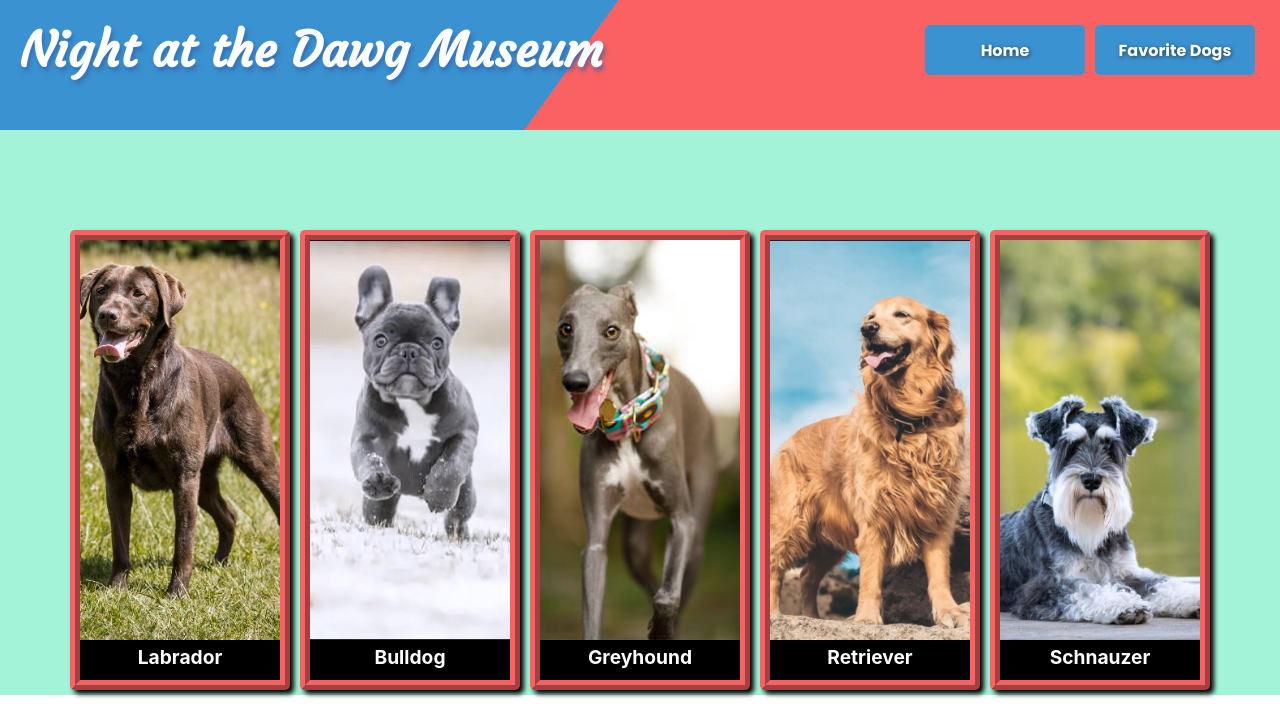
Test: Error page › Should show an error message when a dog breed can/t be fetched
The width and height of the screenshot is (1280, 720).
Click the picture named "labrador" at (181, 440), box x1=48 y1=240 x2=313 y2=640
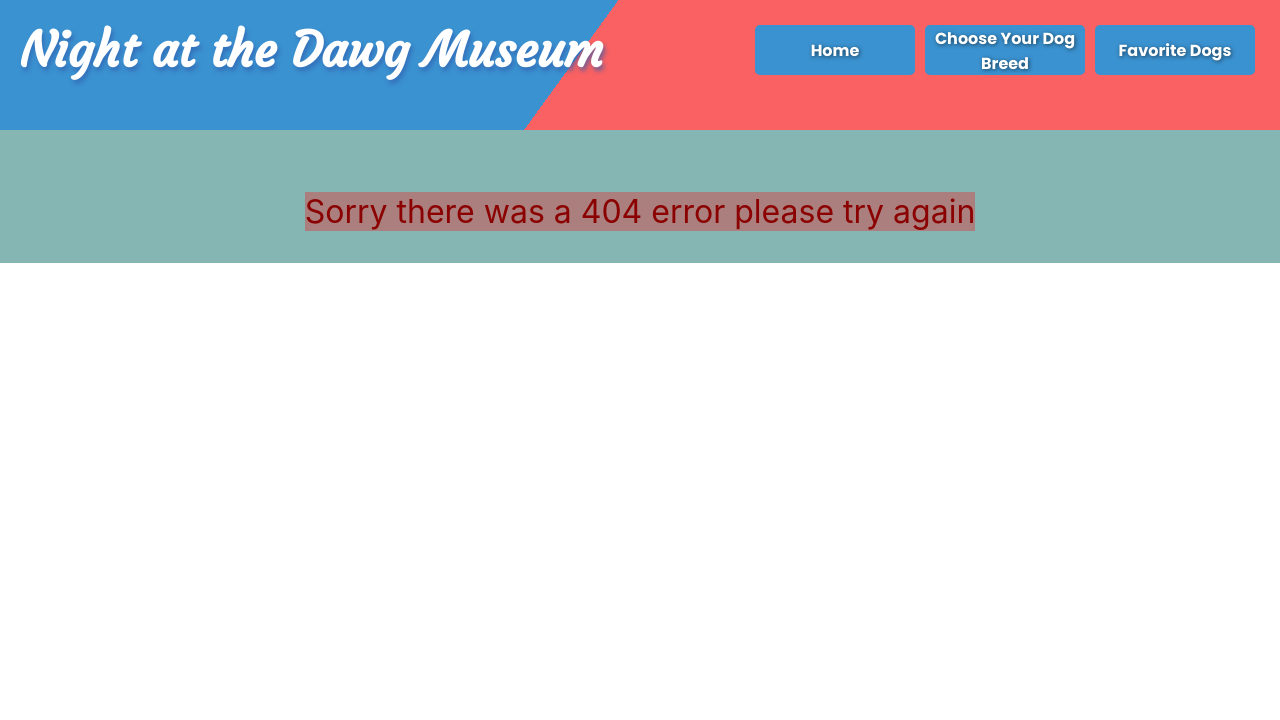
Expected: the text "Sorry there was a 404 error please try again" is shown, x1=305 y1=192 x2=975 y2=231
